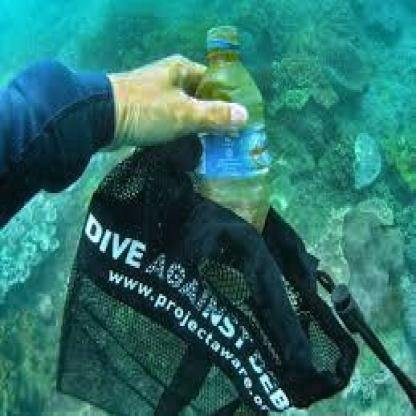pbottle: (188, 17, 272, 307)
